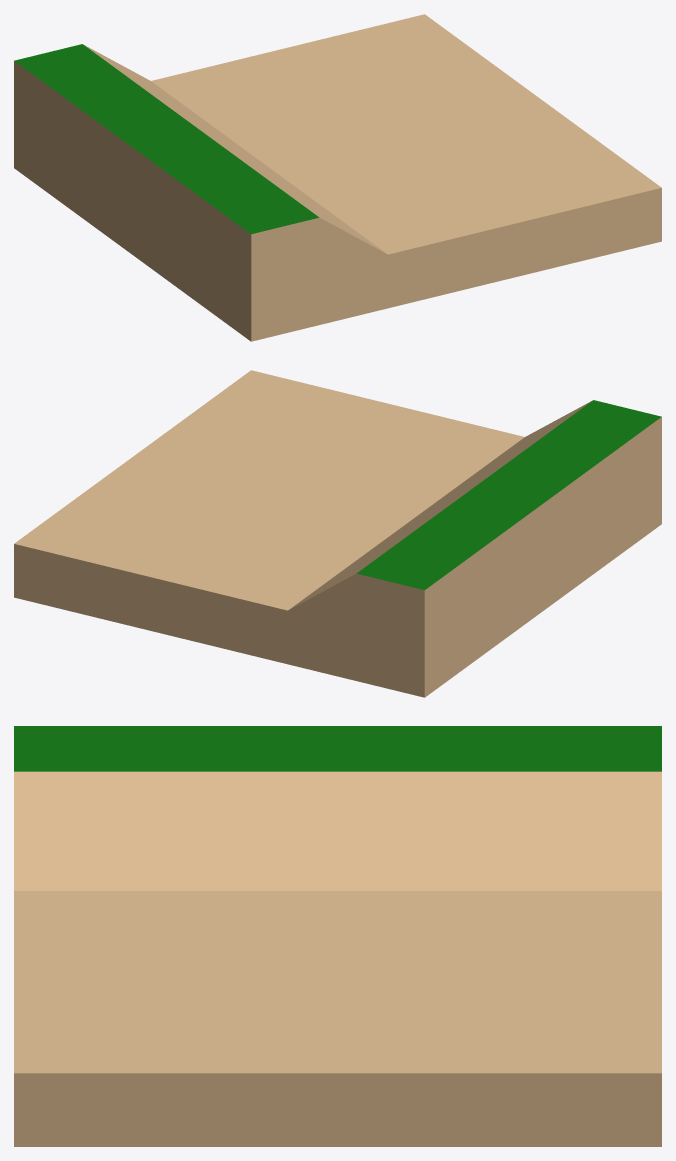
Rendered from tile_thin_edge.glb.
3 views of the same model, one above another, from view 1: azimuth 30°, elevation 25°; view 2: azimuth 150°, elevation 25°; view 3: azimuth 270°, elevation 25° (orthographic). The views are drawn at different scales.
Visible parts, largest first — view 1: Plane.014; view 2: Plane.014; view 3: Plane.014.
Boxes of the visible parts, left/top/right/bottom form: Plane.014: left=14, top=14, right=661, bottom=341; Plane.014: left=14, top=370, right=661, bottom=697; Plane.014: left=14, top=726, right=661, bottom=1146.
Size of the model in its own units: 2 by 0.5 by 2.
